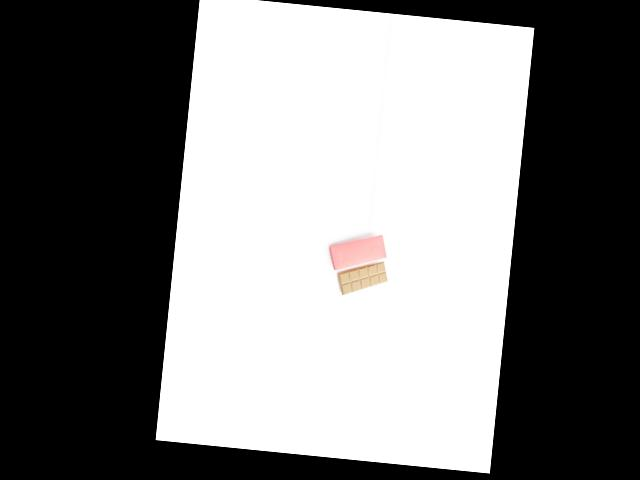chocolate: (333, 254, 390, 299)
